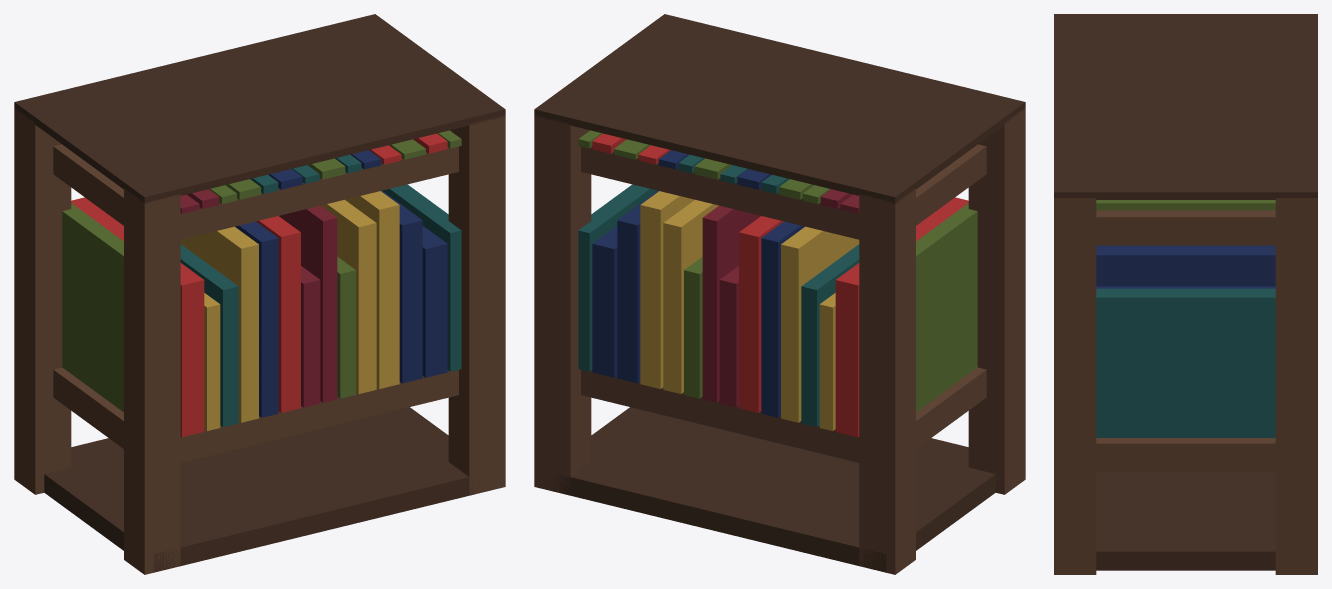
File: bookcaseOpenLow.glb
3 views of the same model, side by side, from view 1: azimuth 30°, elevation 25°; view 2: azimuth 150°, elevation 25°; view 3: azimuth 270°, elevation 25° (orthographic).
Visible parts, largest first — view 1: bookcaseOpenLow(Clone); view 2: bookcaseOpenLow(Clone); view 3: bookcaseOpenLow(Clone).
Boxes of the visible parts, x1,y1,x2,y2 form: bookcaseOpenLow(Clone): [14, 14, 505, 574]; bookcaseOpenLow(Clone): [534, 14, 1025, 574]; bookcaseOpenLow(Clone): [1054, 14, 1317, 574].
Bounding box in the file's own units: 0.4 × 0.4 × 0.25.
